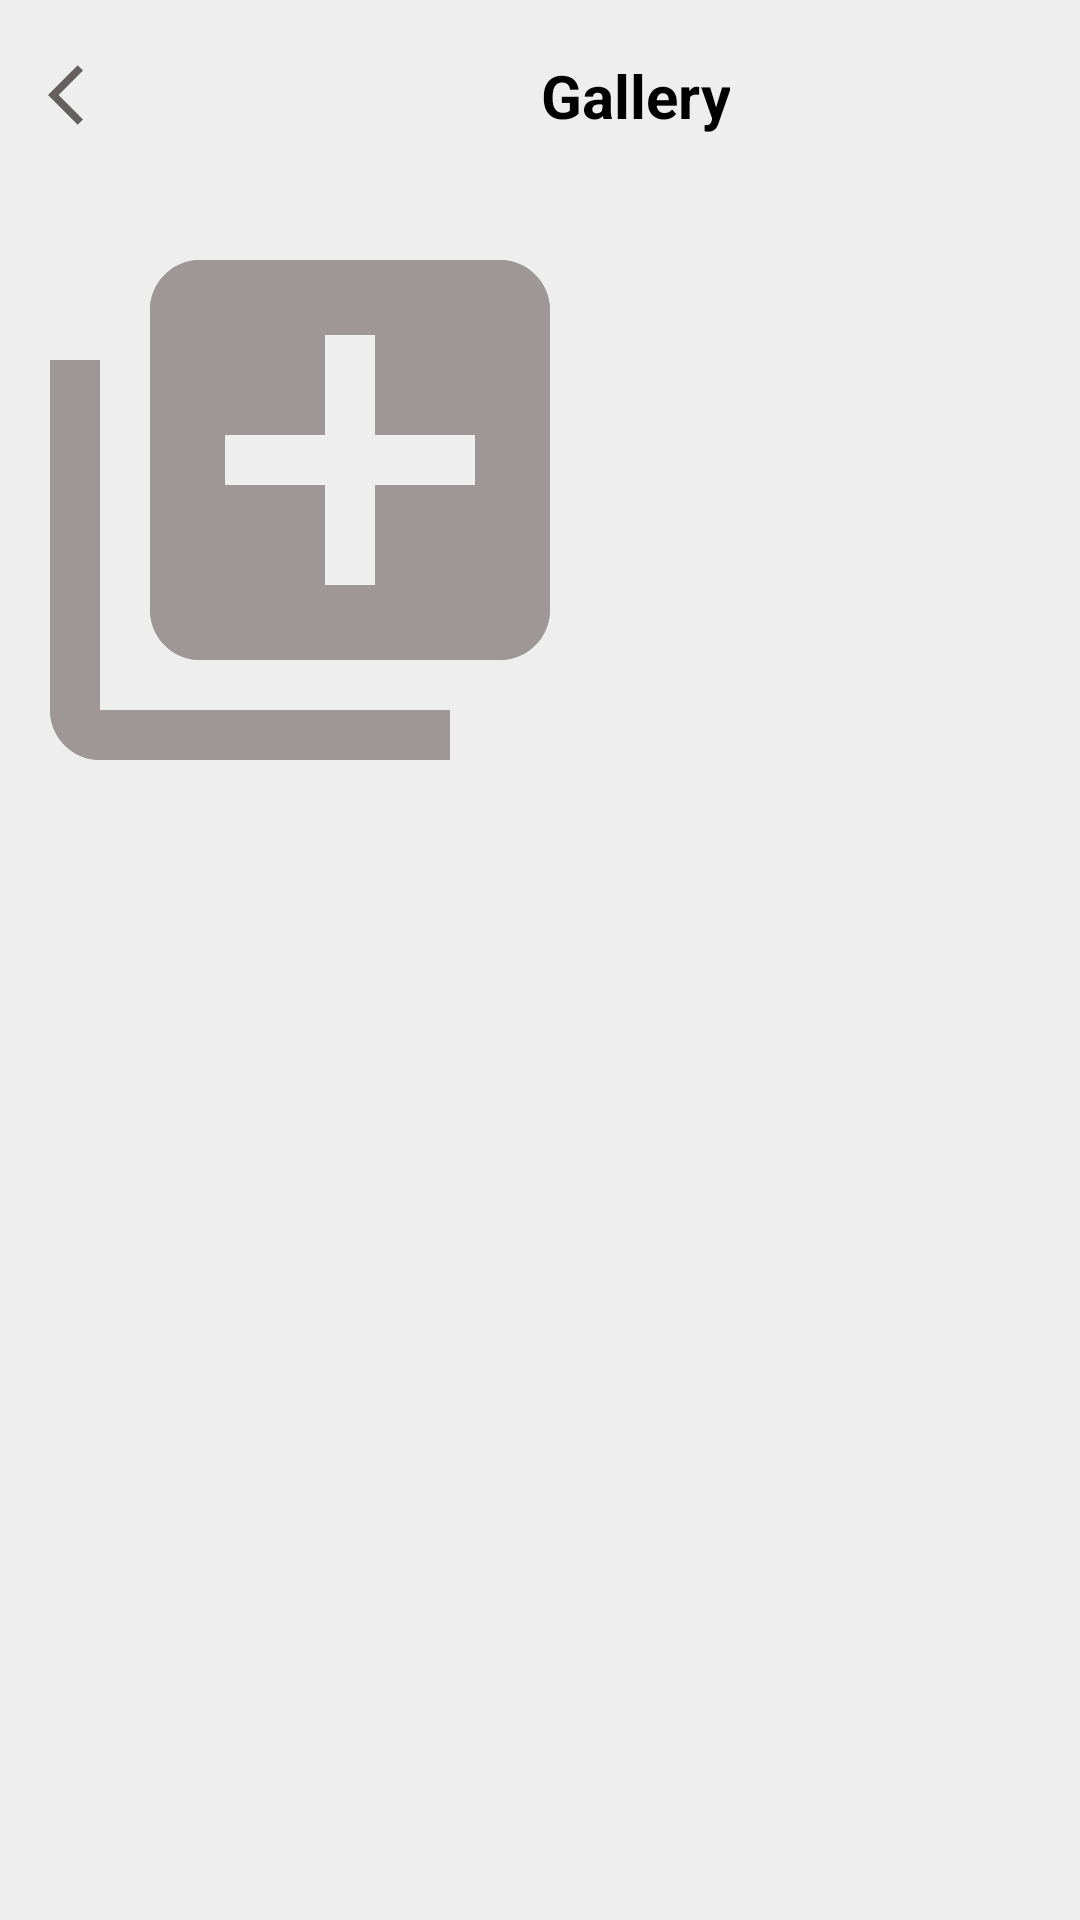

Icon bounding boxes for this 1080 x 1920 phone screenshot, format (x1, y1, x2, y2):
arrow back: (48, 65, 83, 125)
